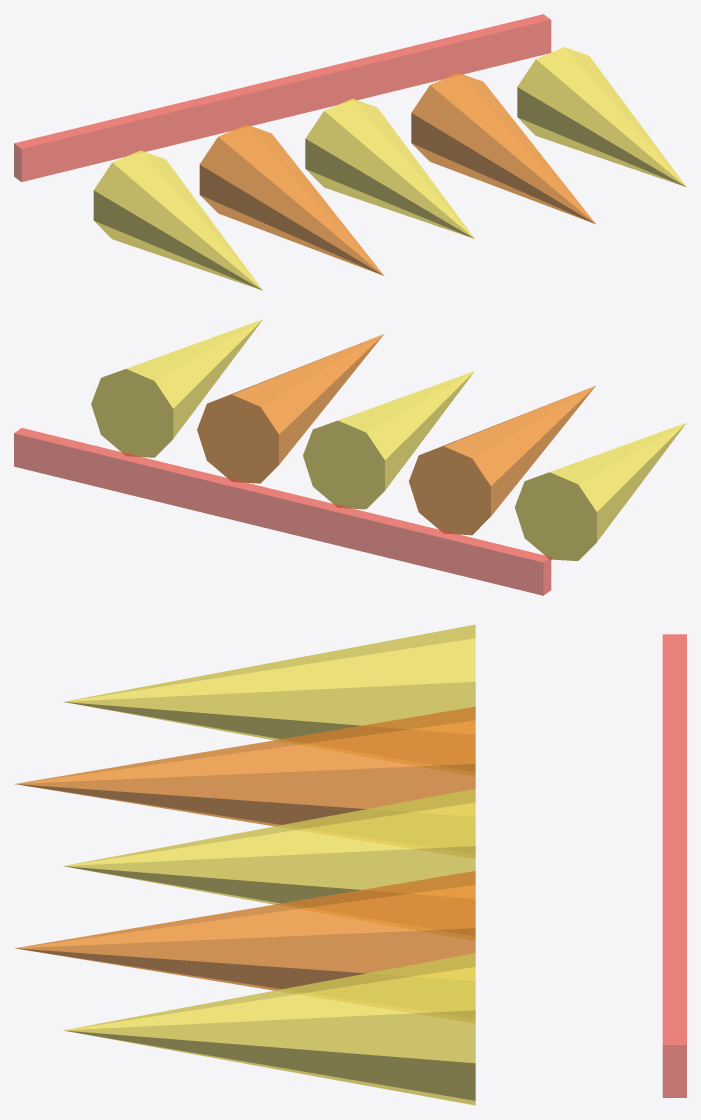
The model's file is vfx_flame_wall_segment.glb.
The picture shows the model from 3 angles, top to bottom: view 1: azimuth 30°, elevation 25°; view 2: azimuth 150°, elevation 25°; view 3: azimuth 270°, elevation 25°; orthographic projection. The views are drawn at different scales.
Parts seen in each view (by area): view 1: base, flame_3, flame_1, flame_0, flame_4, flame_2; view 2: base, flame_3, flame_1, flame_0, flame_2, flame_4; view 3: flame_4, flame_2, flame_0, flame_1, flame_3, base.
Part boxes in pixels (x1,y1,x2,y2): base: (14, 14, 551, 181); flame_3: (411, 73, 595, 224); flame_1: (199, 124, 383, 275); flame_0: (93, 150, 262, 290); flame_4: (517, 47, 686, 187); flame_2: (305, 98, 474, 238); base: (14, 428, 551, 595); flame_3: (197, 334, 383, 483); flame_1: (409, 386, 595, 535); flame_0: (514, 422, 686, 560); flame_2: (303, 371, 474, 509); flame_4: (91, 319, 262, 457); flame_4: (63, 953, 475, 1105); flame_2: (63, 788, 475, 940); flame_0: (63, 624, 475, 775); flame_1: (15, 706, 475, 826); flame_3: (15, 871, 475, 990); base: (662, 634, 686, 1097).
Size of the model in its own units: 2 by 0.3151 by 1.38.
